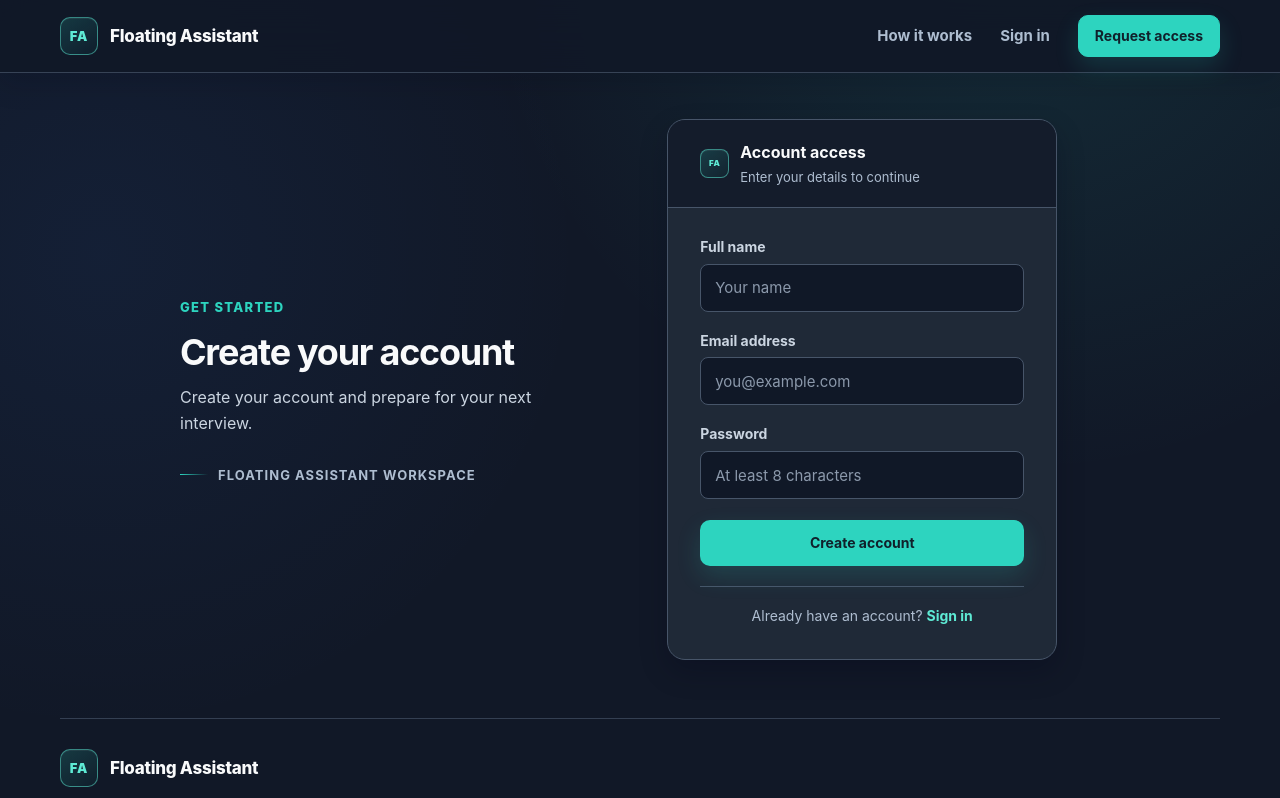
website routing and authentication › registers and displays the email-verification requirement
The image size is (1280, 798).
Type "Candidate" into the field labelled "Full name". click: (862, 288)
box: [700,264,1024,312]
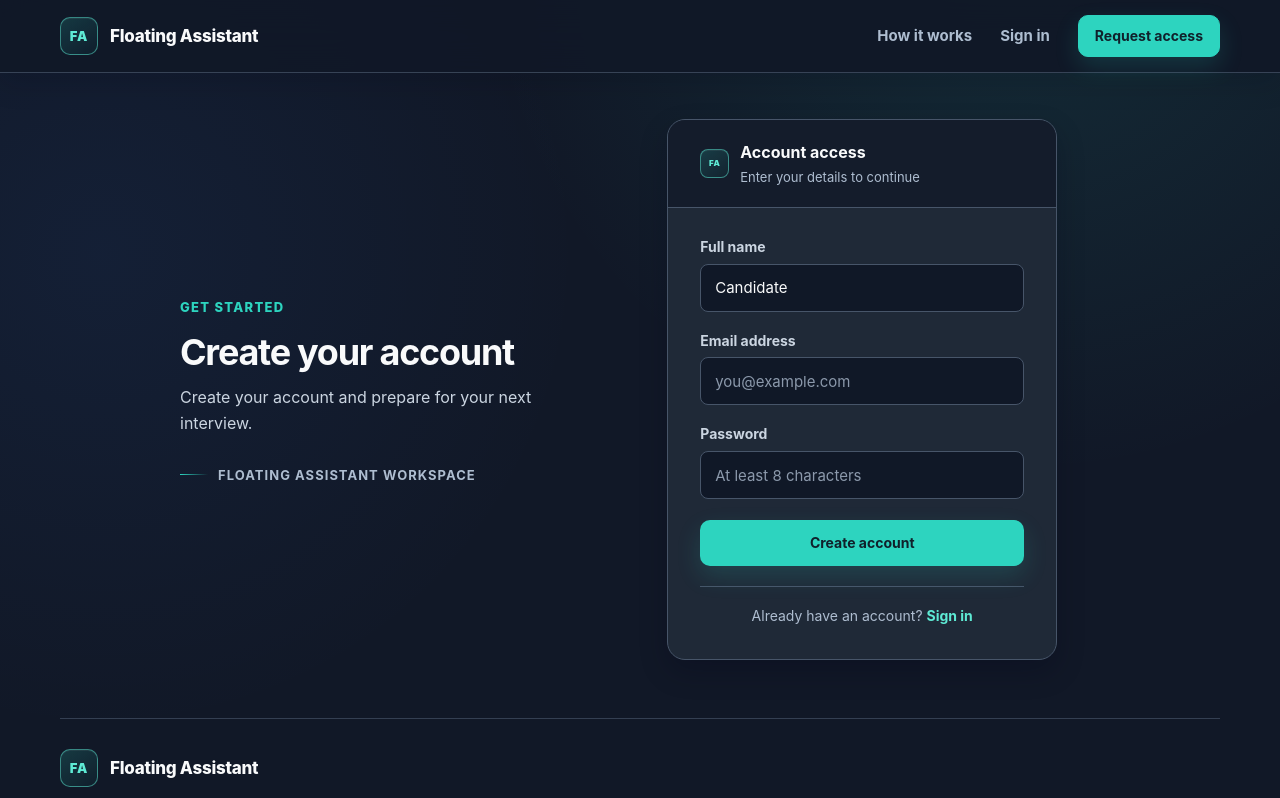
Type "candidate@example.com" into the field labelled "Email address". click: (862, 381)
box: [700,357,1024,405]
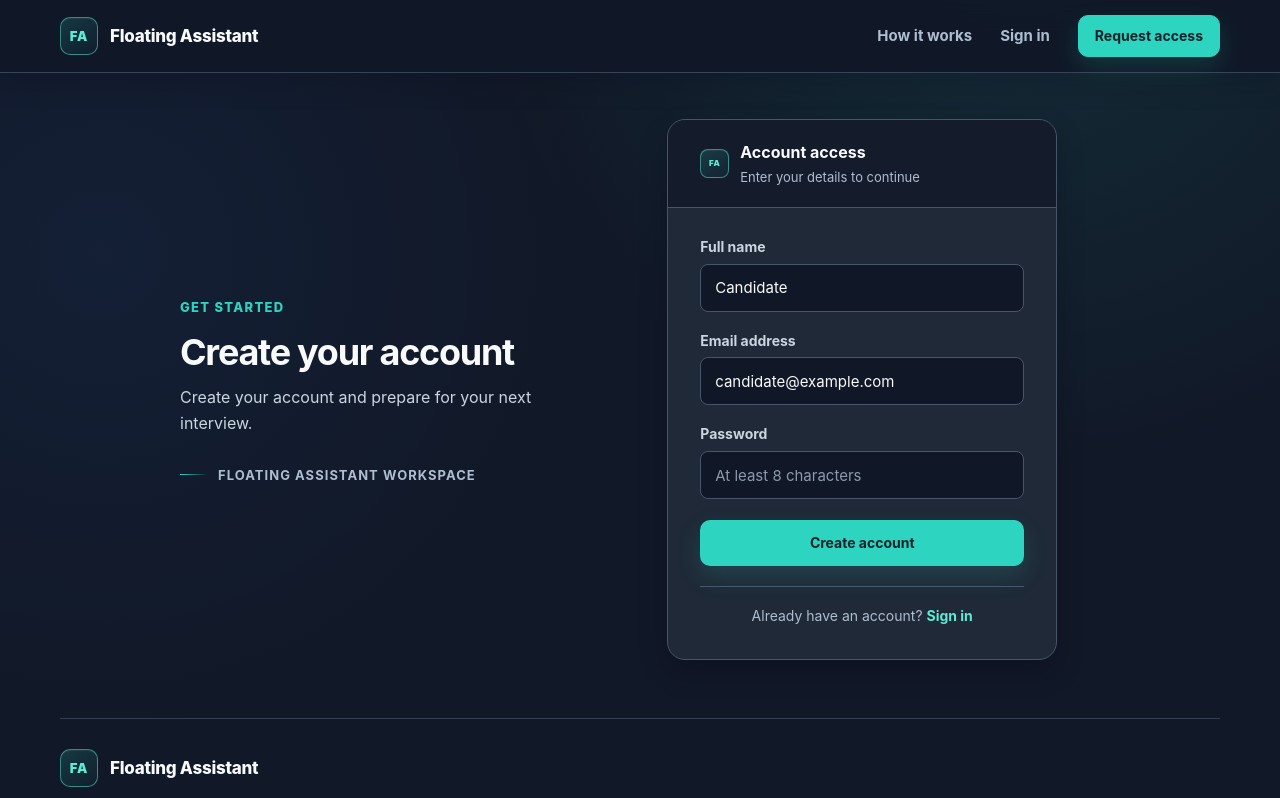
Type "correct horse battery" into the password field labelled "Password". click: (862, 475)
box: [700,451,1024,499]
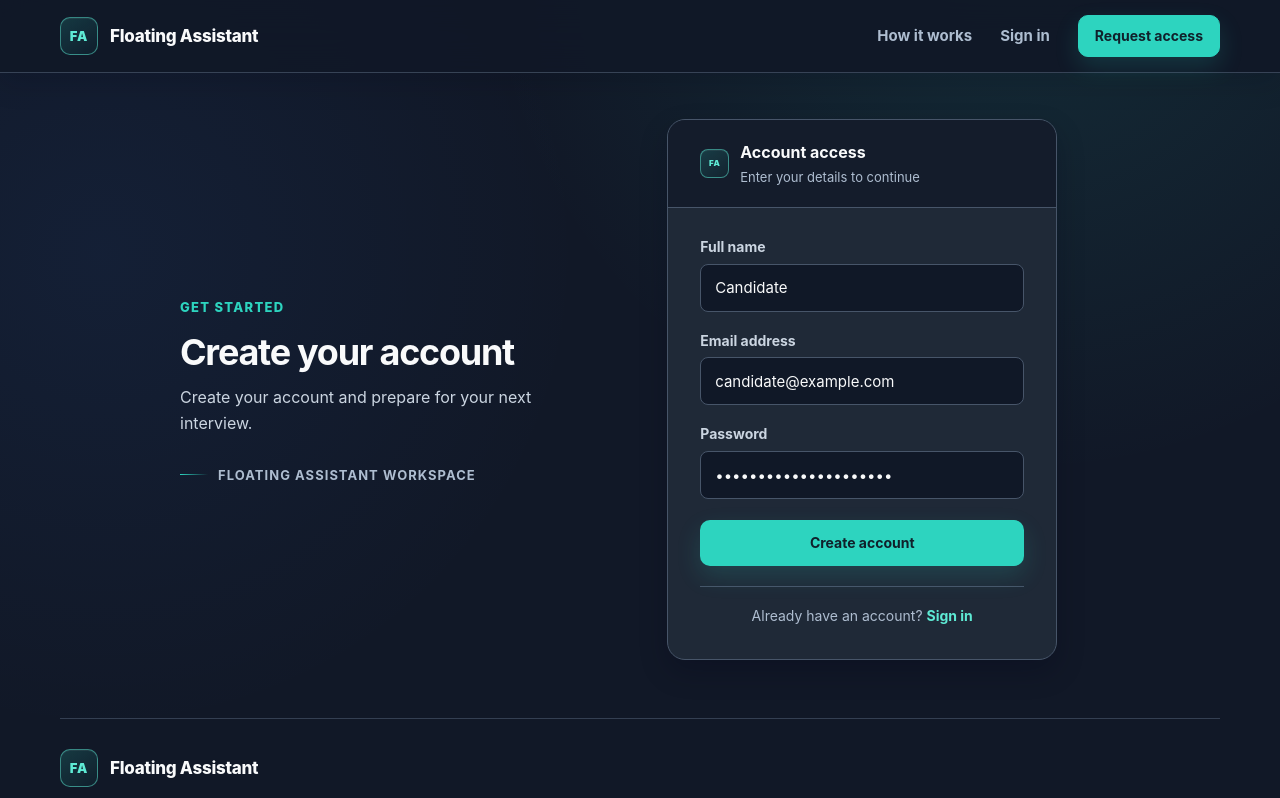
Click the button "Create account". click: (862, 543)
box: [700,520,1024,566]
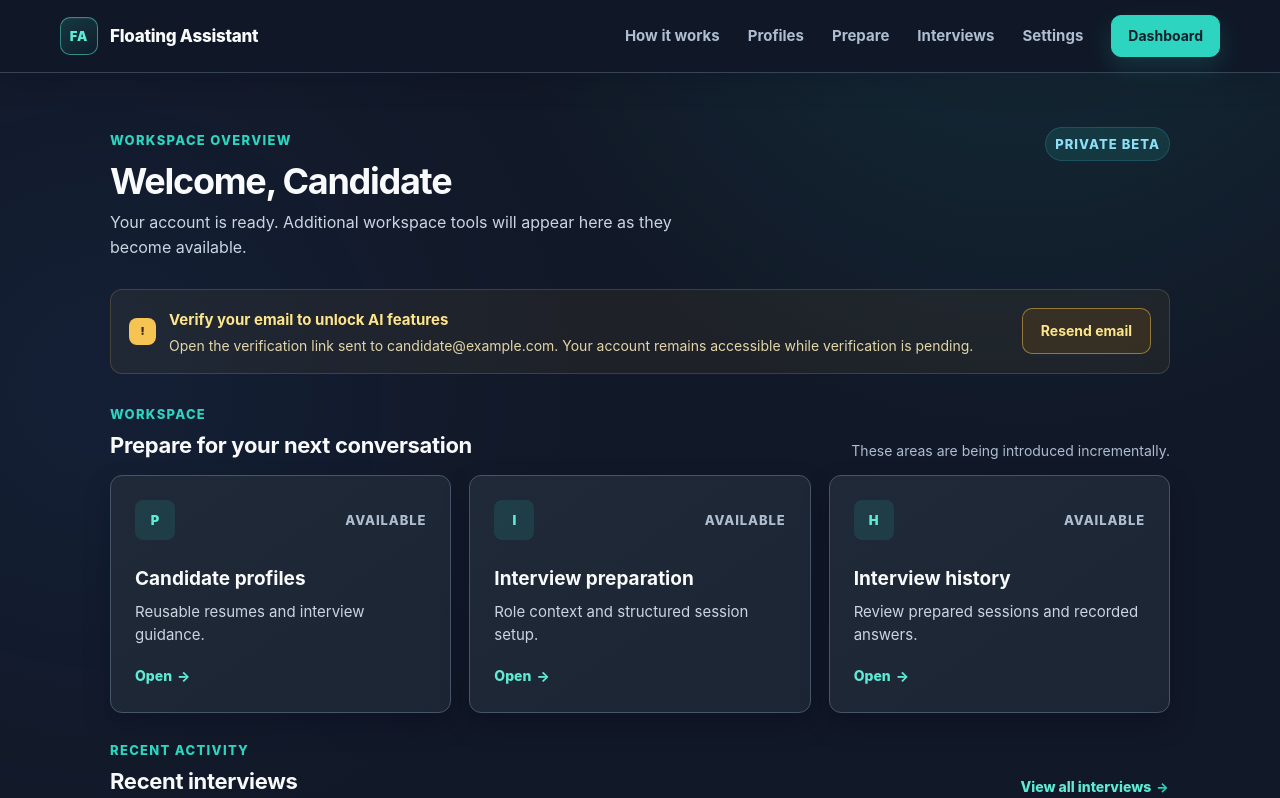
Result: the heading "Welcome, Candidate" is shown at [110,159,451,203]
Result: the text "Verify your email to unlock AI features" is shown at [169,310,448,329]
